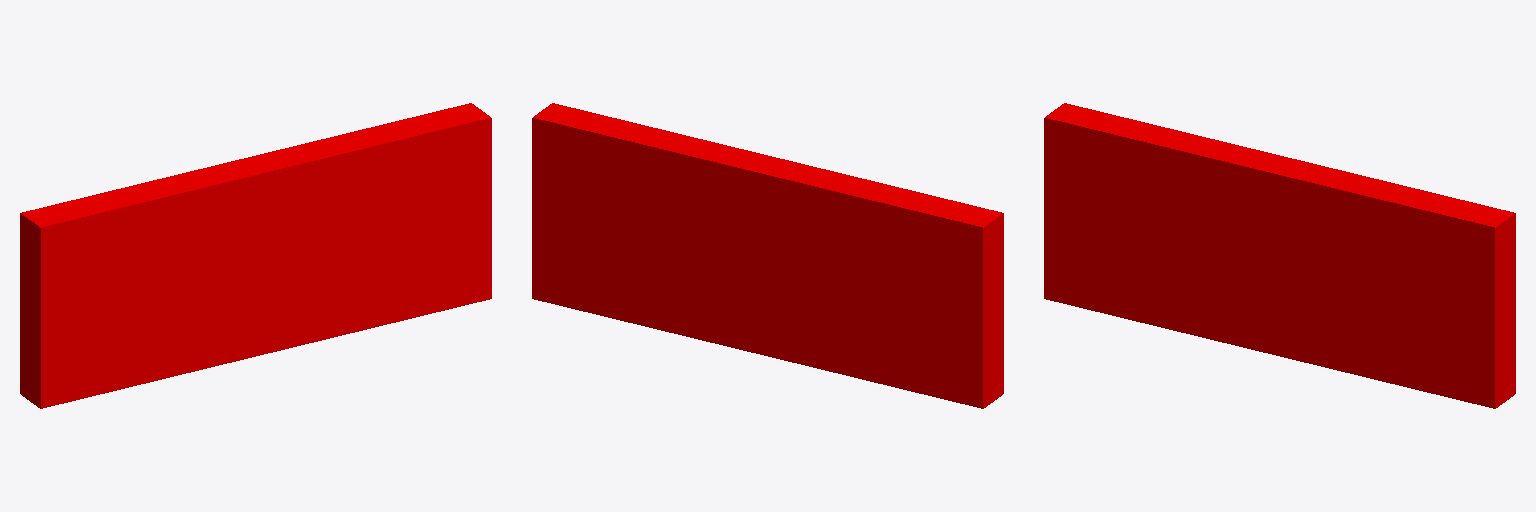
The robot description file, URDF, robot "back_boundary":
<?xml version="1.0"?>
<!-- created with Phobos 1.0.1 "Capricious Choutengan" -->
  <robot name="back_boundary">

    <link name="back_wall">
      <inertial>
        <contact>
          <lateral_friction value="1"/>
        </contact>
        <origin xyz="0 0 0" rpy="0 0 0"/>
        <mass value="0.001"/>
        <inertia ixx="0.001" ixy="0" ixz="0" iyy="0.001" iyz="0" izz="0.001"/>
      </inertial>
      <visual name="Cube">
        <origin xyz="0 0 0" rpy="0 0 0"/>
        <geometry>
          <box size="1.3 0.1 0.5"/>
        </geometry>
        <material name="red">
          <color rgba="1.0 0 0 1.0"/>
        </material>
      </visual>
      <collision>
        <origin rpy="0 0 0" xyz="0 0 0"/>
        <geometry>
          <box size="1.3 0.1 0.5"/>
        </geometry>
      </collision>
    </link>

    <material name="blue">
      <color rgba="0.68 0.74 0.04 1.0"/>
    </material>

  </robot>

--- Facts derived from the render (not from the file) ---
Views: 3 orthographic renders of the robot side by side, from view 1: azimuth 30°, elevation 25°; view 2: azimuth 150°, elevation 25°; view 3: azimuth 330°, elevation 25°.
Robot: back_boundary — 1 links, 0 joints (none); root link back_wall; default pose: every joint at zero.
Links seen in each view (by area): view 1: back_wall; view 2: back_wall; view 3: back_wall.
Link boxes in pixels (left/top/right/bottom): back_wall: left=20, top=103, right=491, bottom=408; back_wall: left=532, top=103, right=1003, bottom=408; back_wall: left=1044, top=103, right=1515, bottom=408.
Bounding box of the posed robot: 1.3 × 0.1 × 0.5 m (x, y, z).
Geometry: primitives only (box / cylinder / sphere), no mesh files.